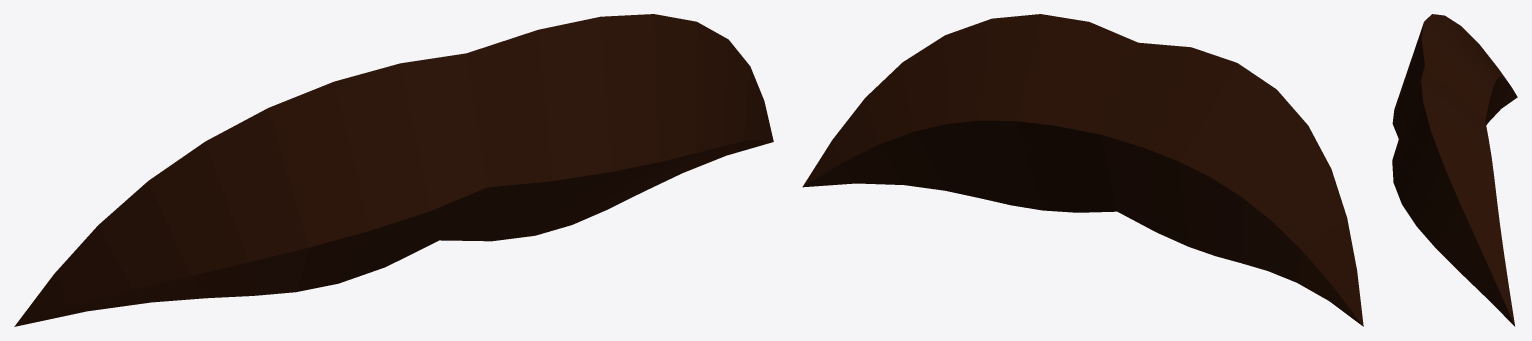
File: Moustache.obj
3 renders of one model, left to right at view 1: azimuth 30°, elevation 25°; view 2: azimuth 150°, elevation 25°; view 3: azimuth 270°, elevation 25°, orthographic. The views are drawn at different scales.
Size of the model in its own units: 0.0758 by 0.0234 by 0.0174.
